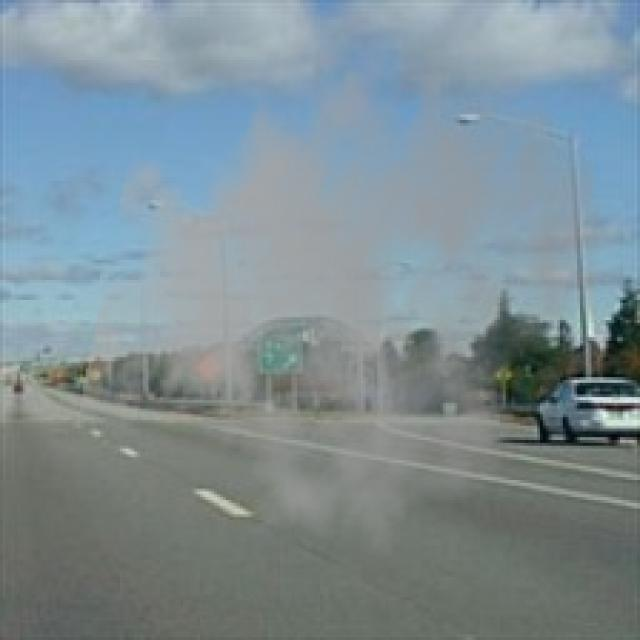smoke: (77, 14, 606, 560)
